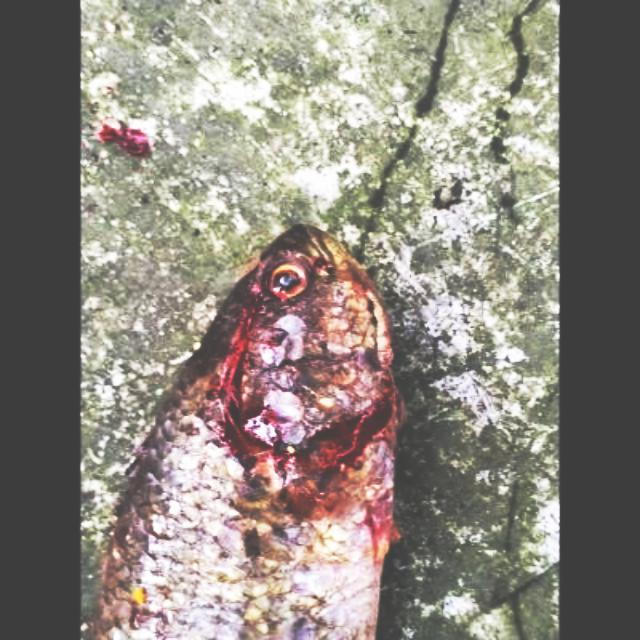Flavobacterium -Bacterial Gill Disease-: (84, 224, 400, 636), (94, 224, 403, 638)
